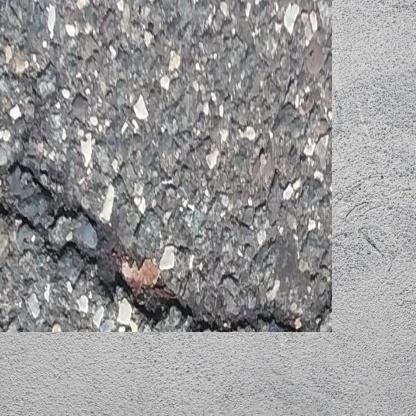Cracks: (0, 71, 307, 307)
